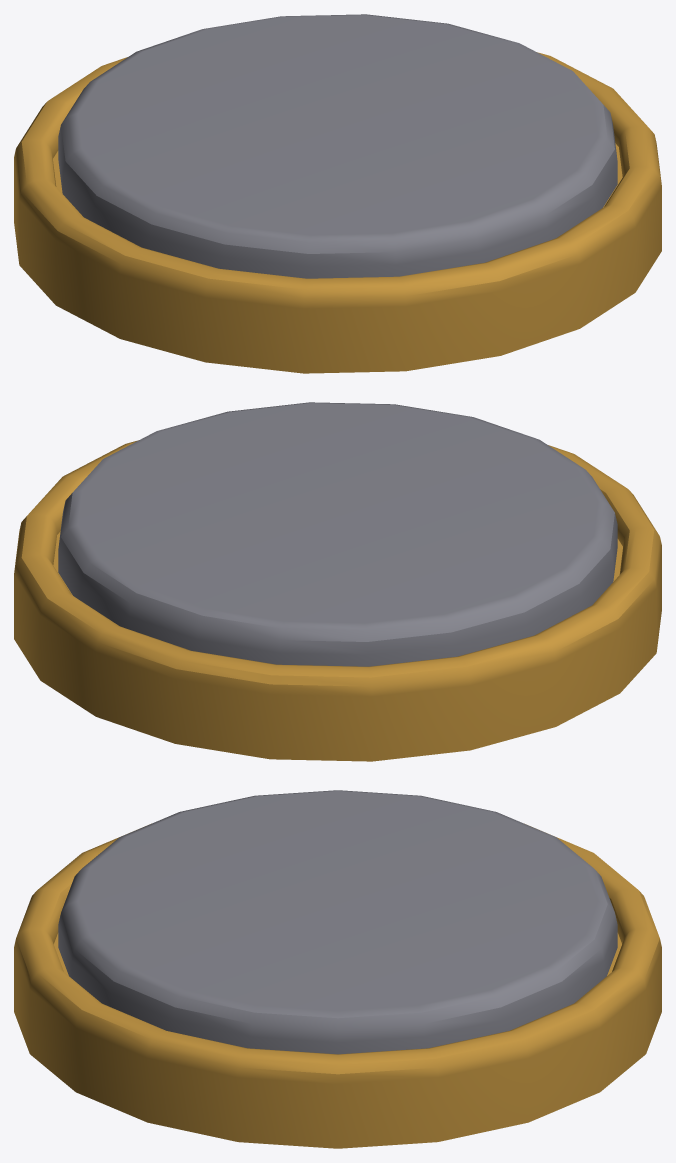
File: a5_white.fbx
3 views of the same model, one above another, from view 1: azimuth 30°, elevation 25°; view 2: azimuth 150°, elevation 25°; view 3: azimuth 270°, elevation 25° (orthographic).
Visible parts, largest first — view 1: polySurface1; view 2: polySurface1; view 3: polySurface1.
Part boxes in pixels (box(x1,y1,x2,y2)): polySurface1: box(14, 14, 661, 373); polySurface1: box(14, 402, 661, 761); polySurface1: box(14, 790, 661, 1148).
Bounding box in the file's own units: 150 × 28.3 × 150.
